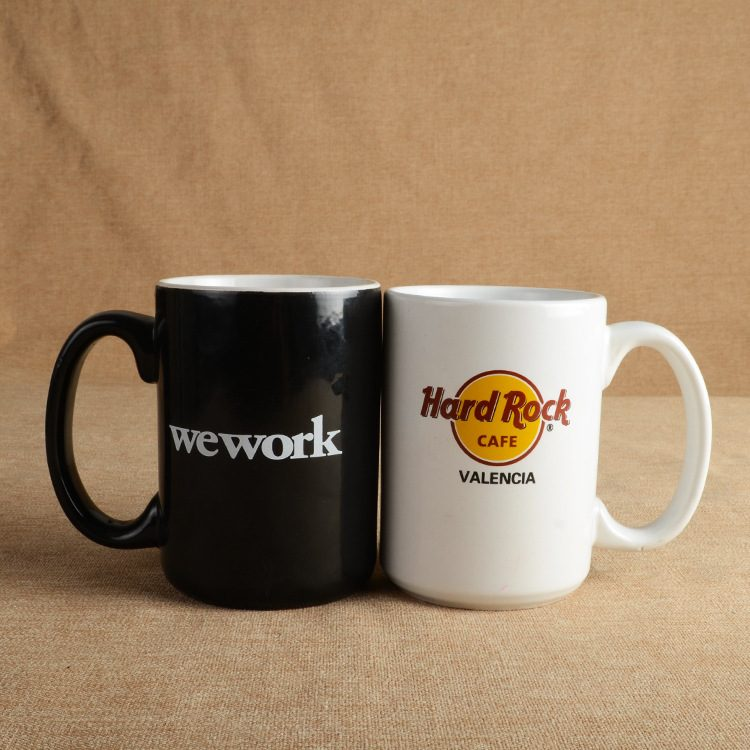wework: (164, 410, 350, 464)
